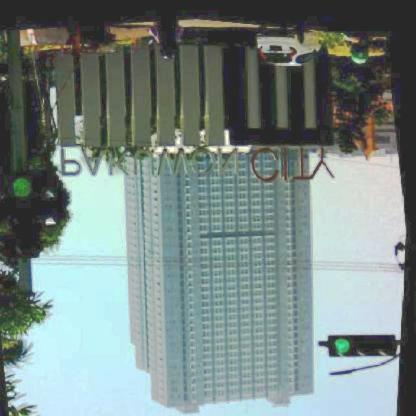Traffic Light -Green-: (1, 163, 54, 261), (329, 317, 403, 358)
